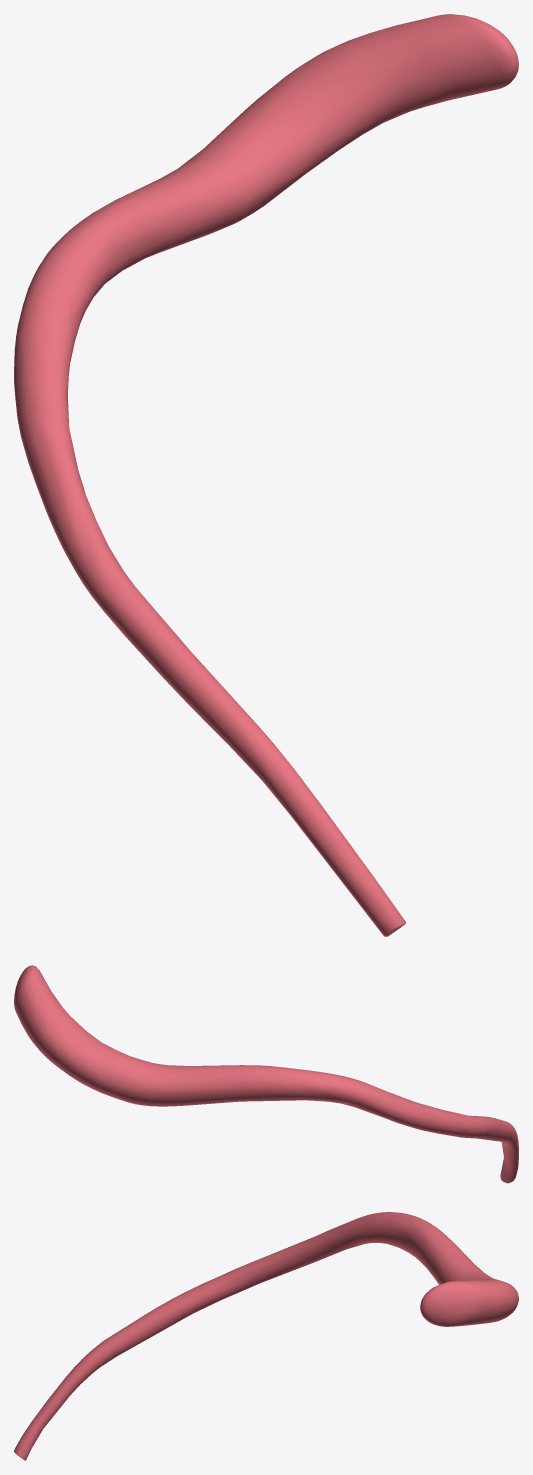
File: fma44887_fj2181.glb
3 views of the same model, one above another, from view 1: azimuth 30°, elevation 25°; view 2: azimuth 150°, elevation 25°; view 3: azimuth 270°, elevation 25° (orthographic). The views are drawn at different scales.
Parts seen in each view (by area): view 1: FMA44887_FJ2181; view 2: FMA44887_FJ2181; view 3: FMA44887_FJ2181.
Part boxes in pixels (x1=…): FMA44887_FJ2181: x1=14, y1=14, x2=518, y2=936; FMA44887_FJ2181: x1=14, y1=965, x2=518, y2=1183; FMA44887_FJ2181: x1=14, y1=1212, x2=518, y2=1460.
Bounding box in the file's own units: 0.038 × 0.0318 × 0.048.
